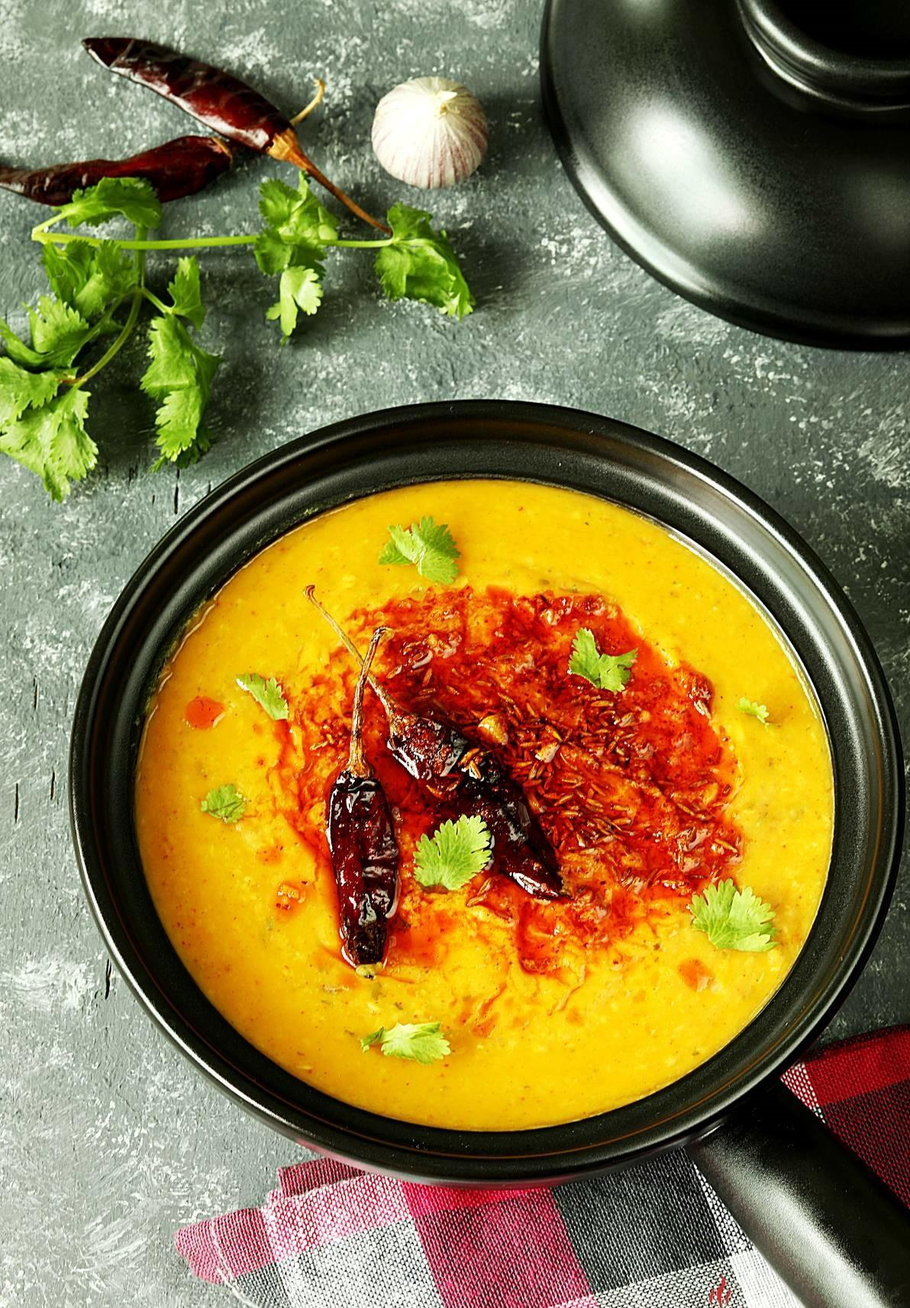Dal: (141, 479, 829, 1125)
